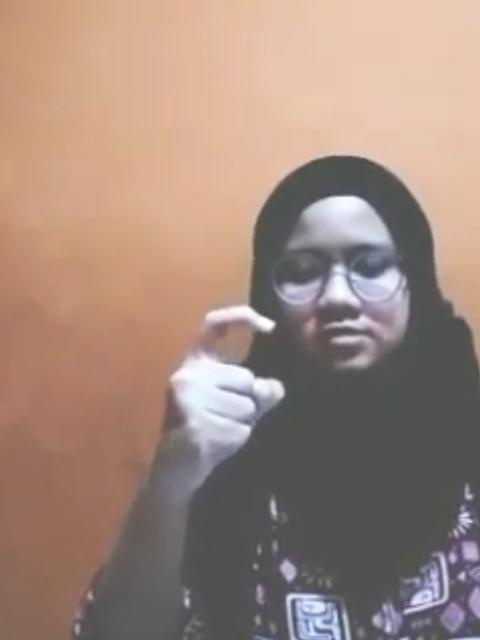X: (158, 296, 284, 488)
